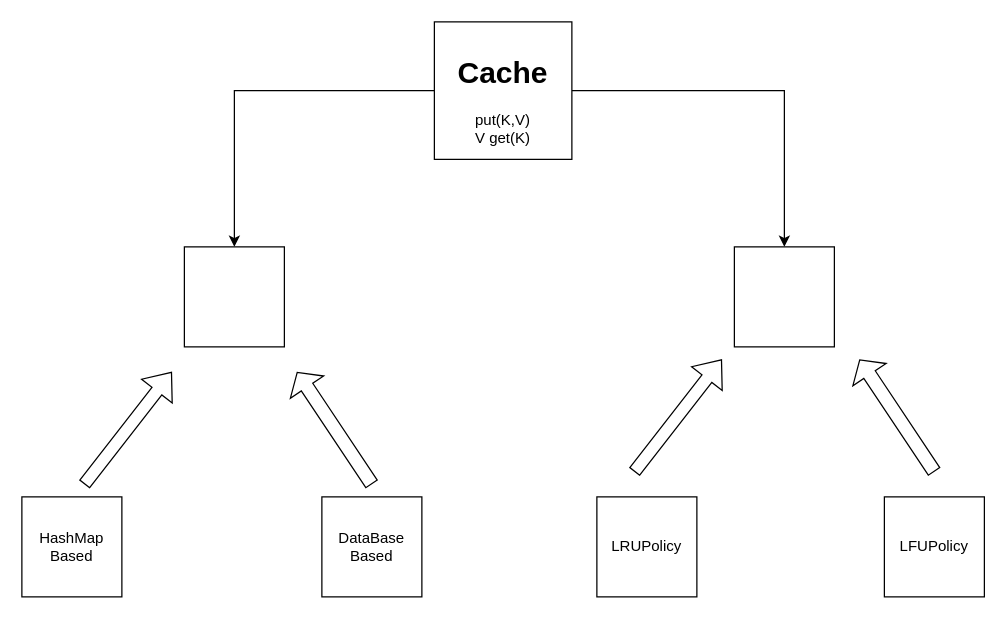
Image size: 1006x619. Some labels were removed from this diagram. The shapes that lost their labels are listed below. From the top down, each one's box as (x1, y1, x2, y2) in pixels, then its label:
(183, 246, 284, 347): Storage
(733, 246, 834, 347): Eviction Policy
